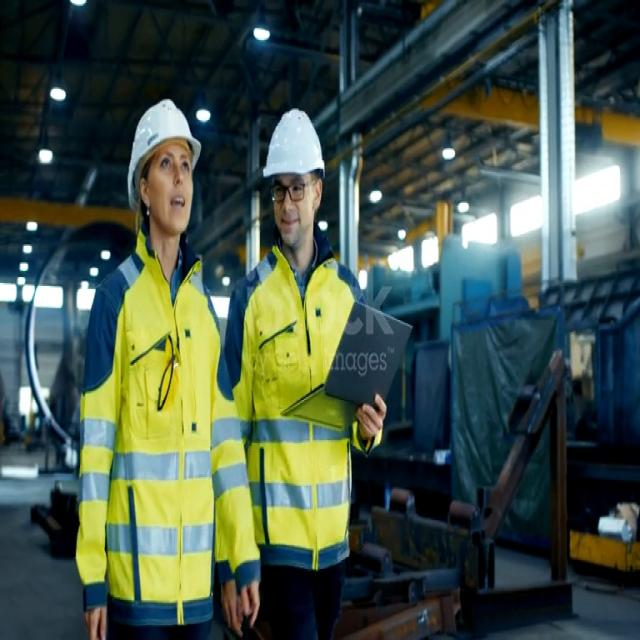capacete: (109, 85, 210, 224), (250, 98, 332, 202)
